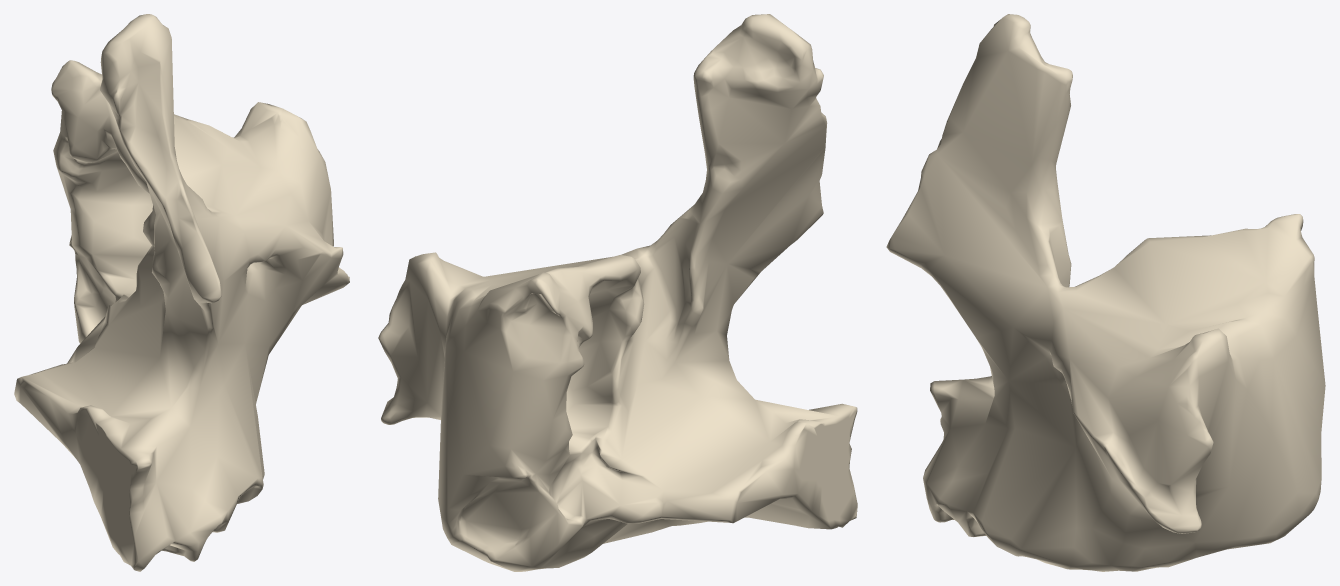
Rendered from maxilla-l.glb.
The picture shows the model from 3 angles, left to right: view 1: azimuth 30°, elevation 25°; view 2: azimuth 150°, elevation 25°; view 3: azimuth 270°, elevation 25°; orthographic projection. The views are drawn at different scales.
Visible parts, largest first — view 1: Maxilla.l; view 2: Maxilla.l; view 3: Maxilla.l.
Part boxes in pixels (left/top/right/bottom): Maxilla.l: left=14, top=14, right=349, bottom=571; Maxilla.l: left=378, top=14, right=857, bottom=571; Maxilla.l: left=886, top=14, right=1325, bottom=571.
Bounding box in the file's own units: 0.0462 × 0.0678 × 0.0538.
